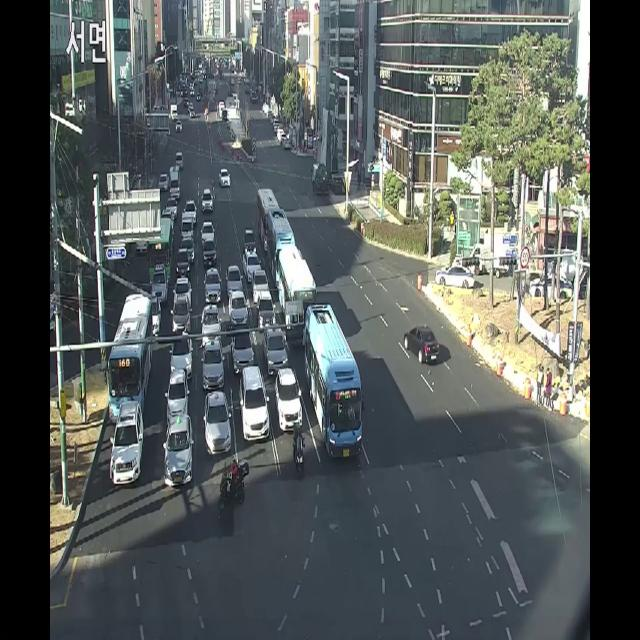bus: (219, 457, 249, 527), (292, 421, 306, 482)
car: (304, 304, 362, 462), (108, 296, 151, 408), (277, 247, 315, 331), (267, 208, 297, 290), (149, 221, 172, 268), (258, 188, 266, 247)
motorcycle: (110, 402, 143, 489), (165, 418, 192, 494), (242, 365, 268, 441), (401, 325, 441, 368), (205, 393, 232, 454), (276, 371, 302, 428), (529, 272, 572, 298), (167, 369, 188, 422), (170, 330, 193, 376), (203, 341, 224, 391), (232, 326, 255, 369), (264, 328, 287, 368), (435, 266, 475, 288), (228, 291, 248, 327), (252, 268, 270, 305), (256, 293, 275, 328), (203, 269, 221, 304), (201, 307, 220, 339), (173, 299, 190, 334), (151, 266, 168, 297), (175, 275, 192, 303), (226, 265, 242, 291), (242, 250, 259, 274), (177, 247, 191, 276), (203, 237, 217, 265), (152, 298, 162, 334), (202, 218, 215, 242), (182, 239, 195, 262), (202, 188, 214, 212), (182, 212, 193, 236), (218, 168, 230, 188), (165, 198, 178, 216), (244, 228, 255, 249), (158, 173, 169, 191), (182, 201, 197, 211), (176, 152, 183, 169)
truck: (470, 233, 515, 271), (311, 162, 329, 195), (170, 167, 180, 198)
